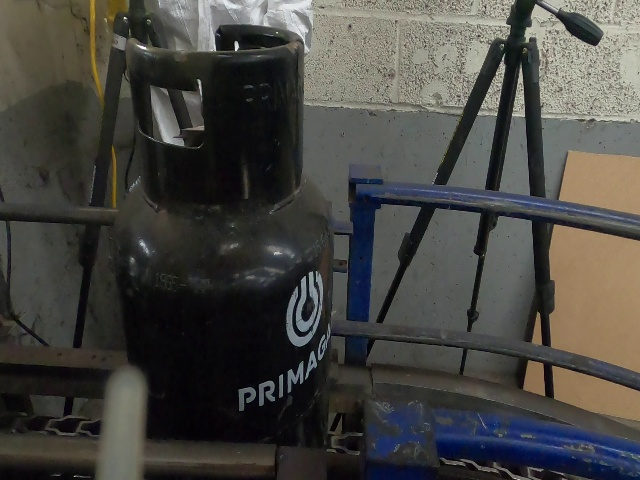gas_bottle: (3, 3, 640, 480)
